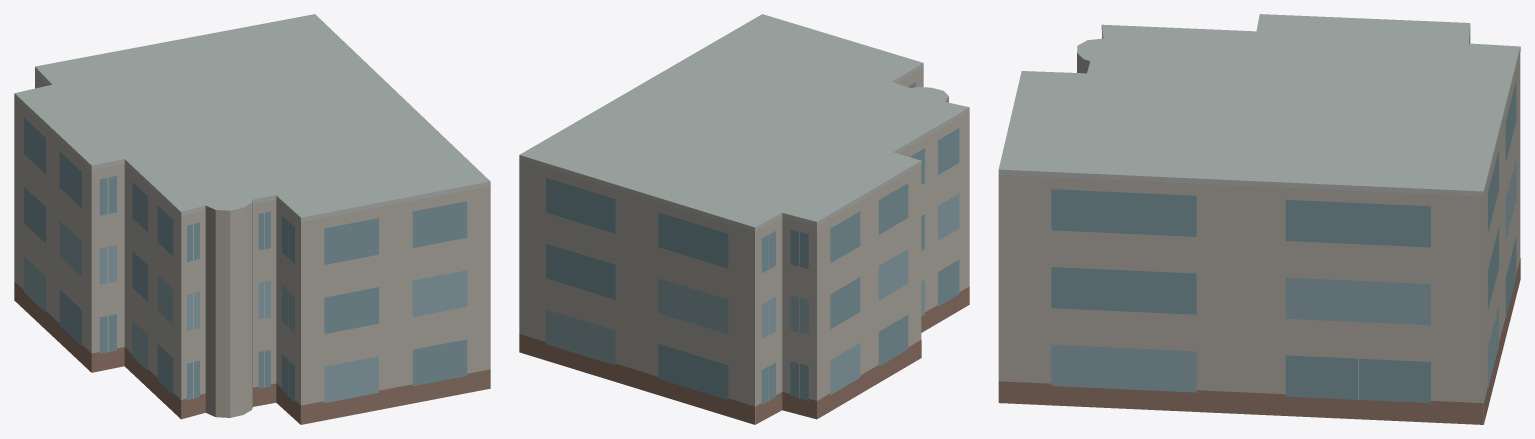
Rendered from survey-upis-32835845.glb.
The picture shows the model from 3 angles, left to right: view 1: azimuth 30°, elevation 25°; view 2: azimuth 150°, elevation 25°; view 3: azimuth 270°, elevation 25°; orthographic projection. The views are drawn at different scales.
Parts seen in each view (by area): view 1: survey-upis-32835845.tmp; view 2: survey-upis-32835845.tmp; view 3: survey-upis-32835845.tmp.
Part boxes in pixels (left/top/right/bottom): survey-upis-32835845.tmp: left=14, top=14, right=490, bottom=424; survey-upis-32835845.tmp: left=519, top=14, right=969, bottom=424; survey-upis-32835845.tmp: left=998, top=14, right=1520, bottom=424.
Size of the model in its own units: 18.27 by 11.2 by 22.7.
